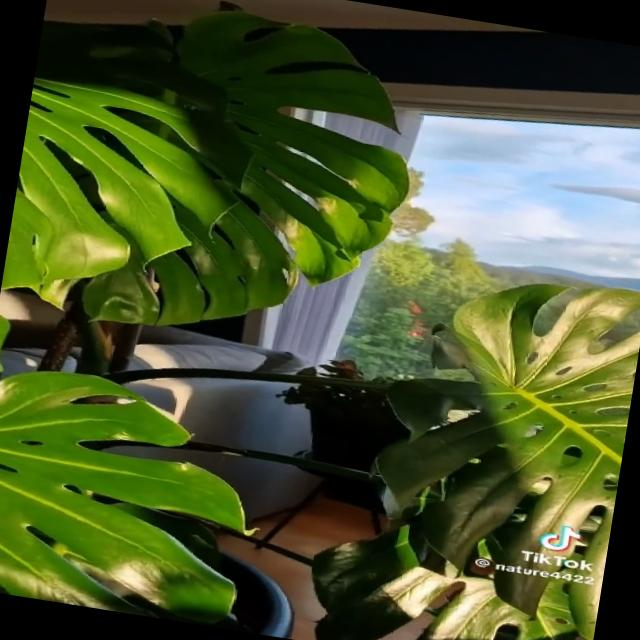roslina_zdrowa: (0, 8, 640, 640)
